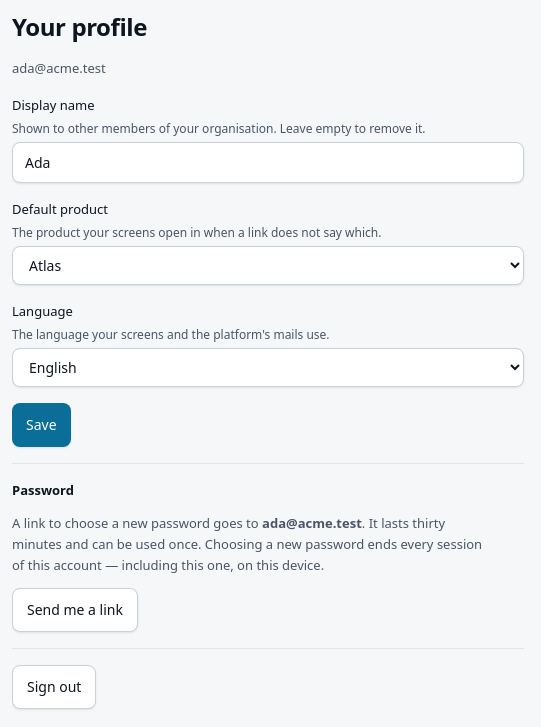
Scenario: a new password › is asked for by mail, at the address this person is signed in with
Check: the element with test id "new-password" shows "thirty minutes", box [12,514,482,574]
Check: the element with test id "new-password" shows "ends every session", box [12,514,482,574]
Click the button with test id "ask-for-password-link": (75, 610) [12,588,138,632]
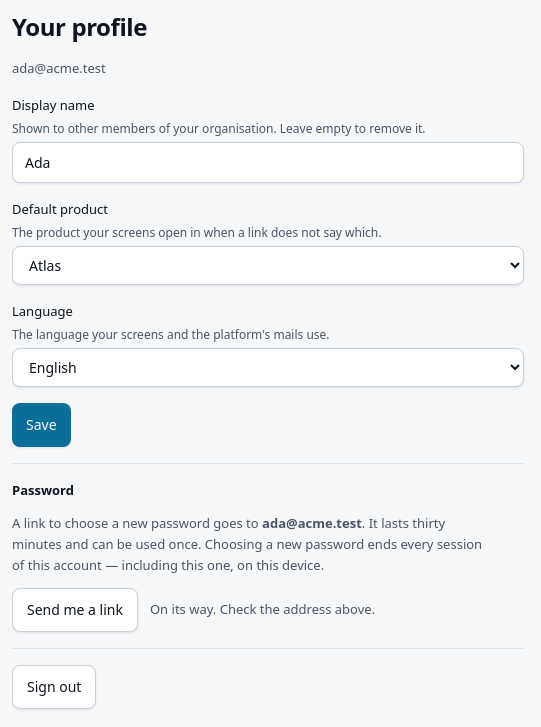
Check: the message "On its way. Check the address above." is shown, box [150,599,375,620]
